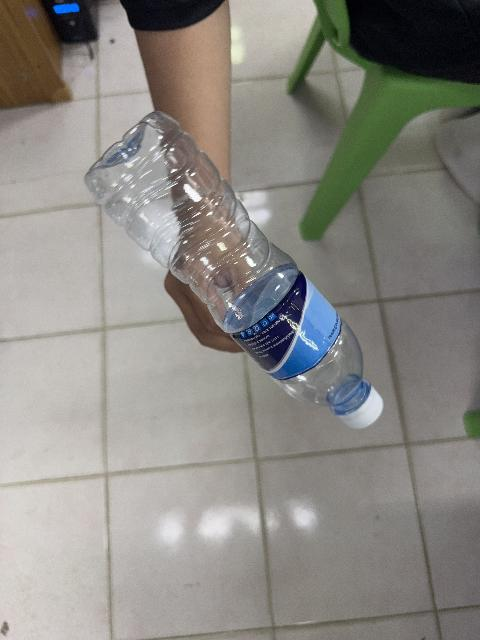bottle: (86, 112, 382, 428)
